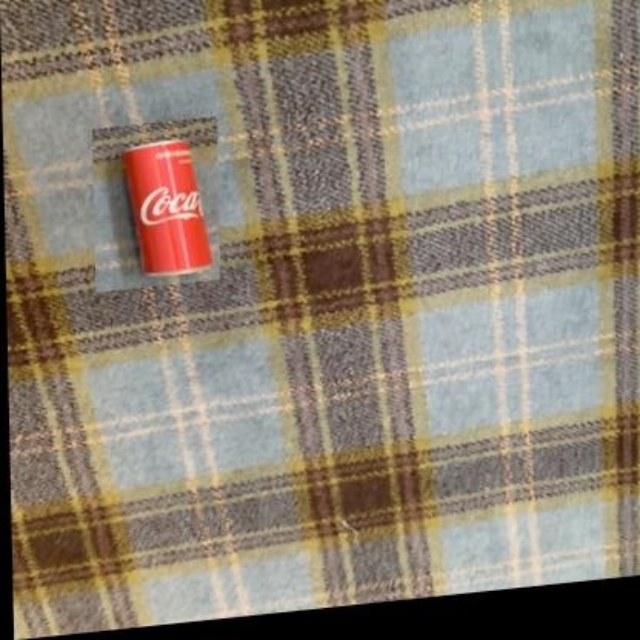trash: (123, 140, 211, 274)
